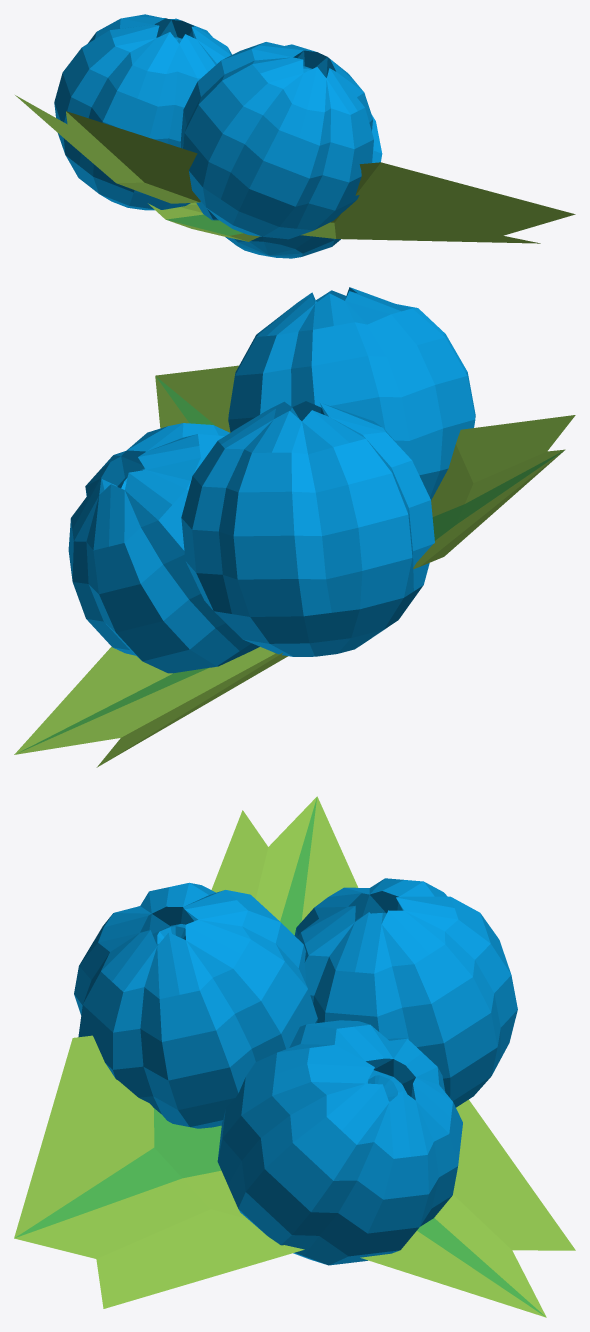
Rendered from blueberry.glb.
3 renders of one model, top to bottom at view 1: azimuth 30°, elevation 25°; view 2: azimuth 150°, elevation 25°; view 3: azimuth 270°, elevation 25°, orthographic. The views are drawn at different scales.
Visible parts, largest first — view 1: group167631196, group974634769; view 2: group167631196, group974634769; view 3: group167631196, group974634769.
Boxes of the visible parts, box(x1,y1,x2,y2) form: group167631196: box(54, 14, 382, 258); group974634769: box(15, 95, 575, 243); group167631196: box(68, 287, 475, 673); group974634769: box(14, 365, 575, 767); group167631196: box(74, 878, 517, 1265); group974634769: box(14, 796, 575, 1317).
Size of the model in its own units: 0.7289 by 0.4372 by 0.6417.
